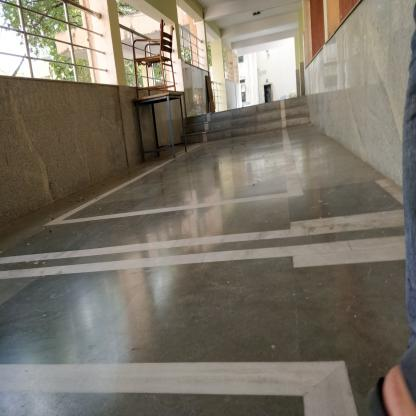stairs: (191, 109, 311, 139)
